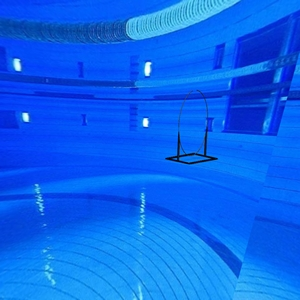circle: (165, 88, 220, 169)
